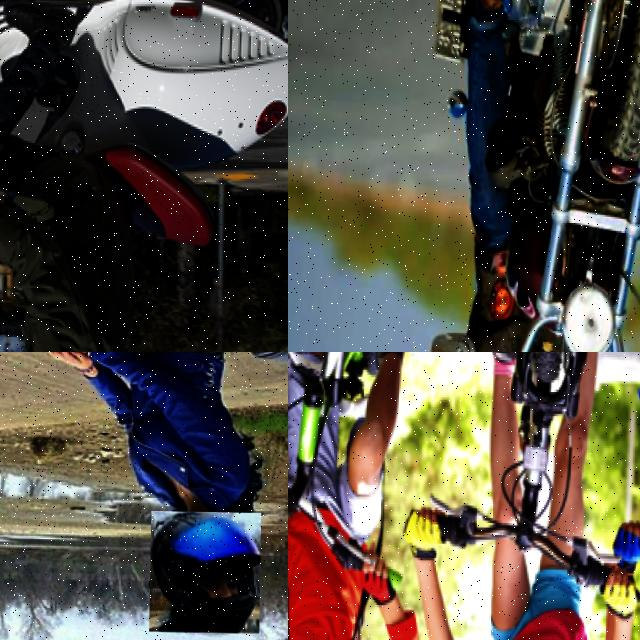helmet: (148, 510, 260, 632)
